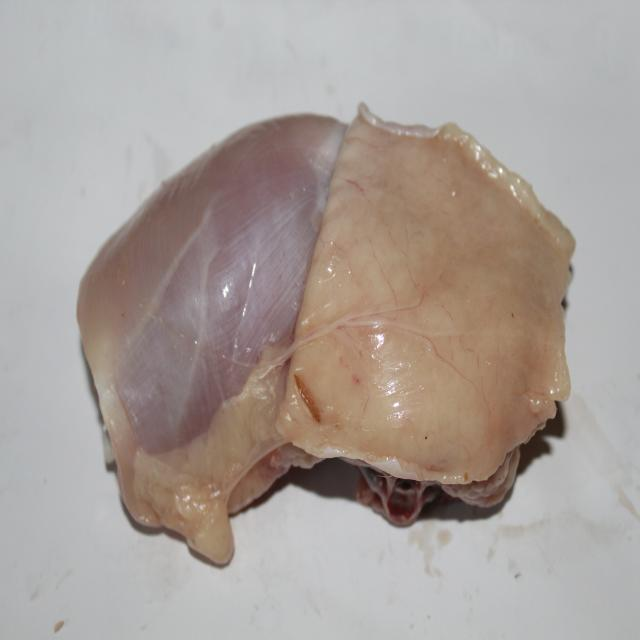chicken: (76, 115, 570, 564)
